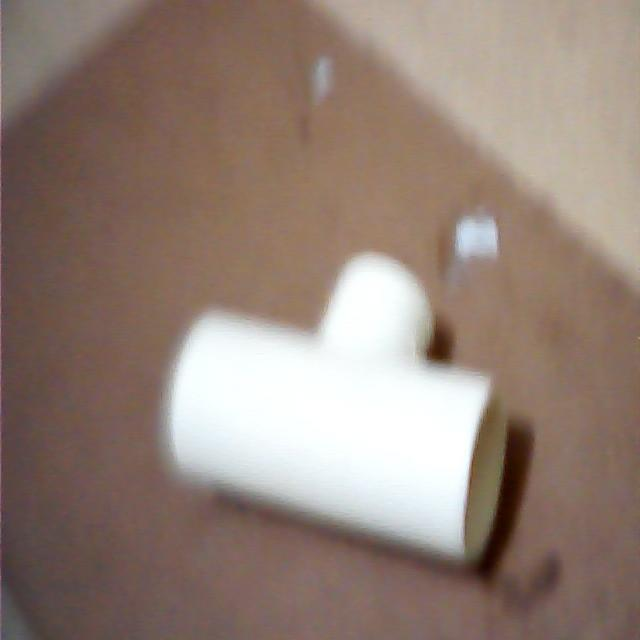T Joint: (161, 251, 509, 573)
